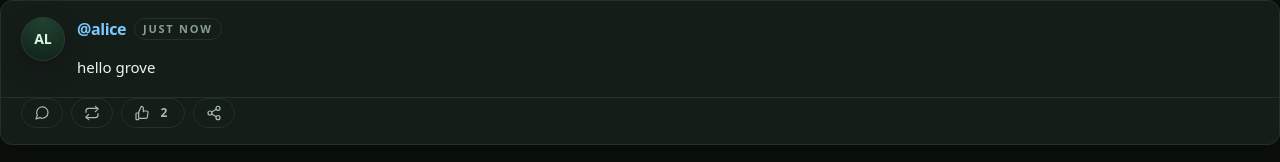
it: TweetCard › likes on first click and unlikes on second click
Click the button named "like" at (153, 113), box [121,98,185,128]
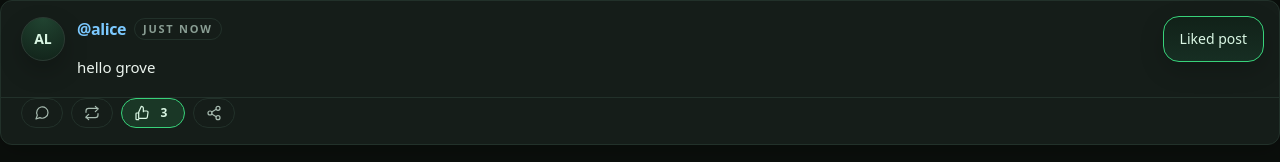
Expected: the text "3" is shown, [161,104,168,121]
Expected: the button named "unlike" is shown
Click the button named "unlike" at (153, 113), box [121,98,185,128]
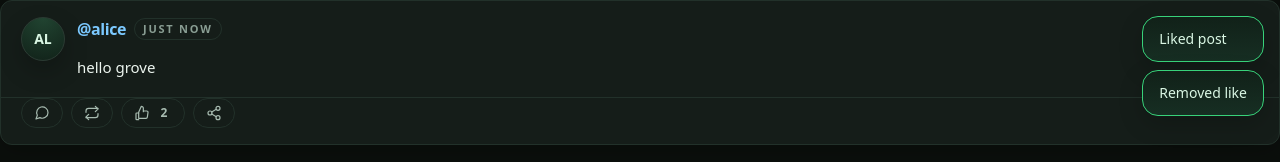
Expected: the text "2" is shown, [161,104,168,121]
